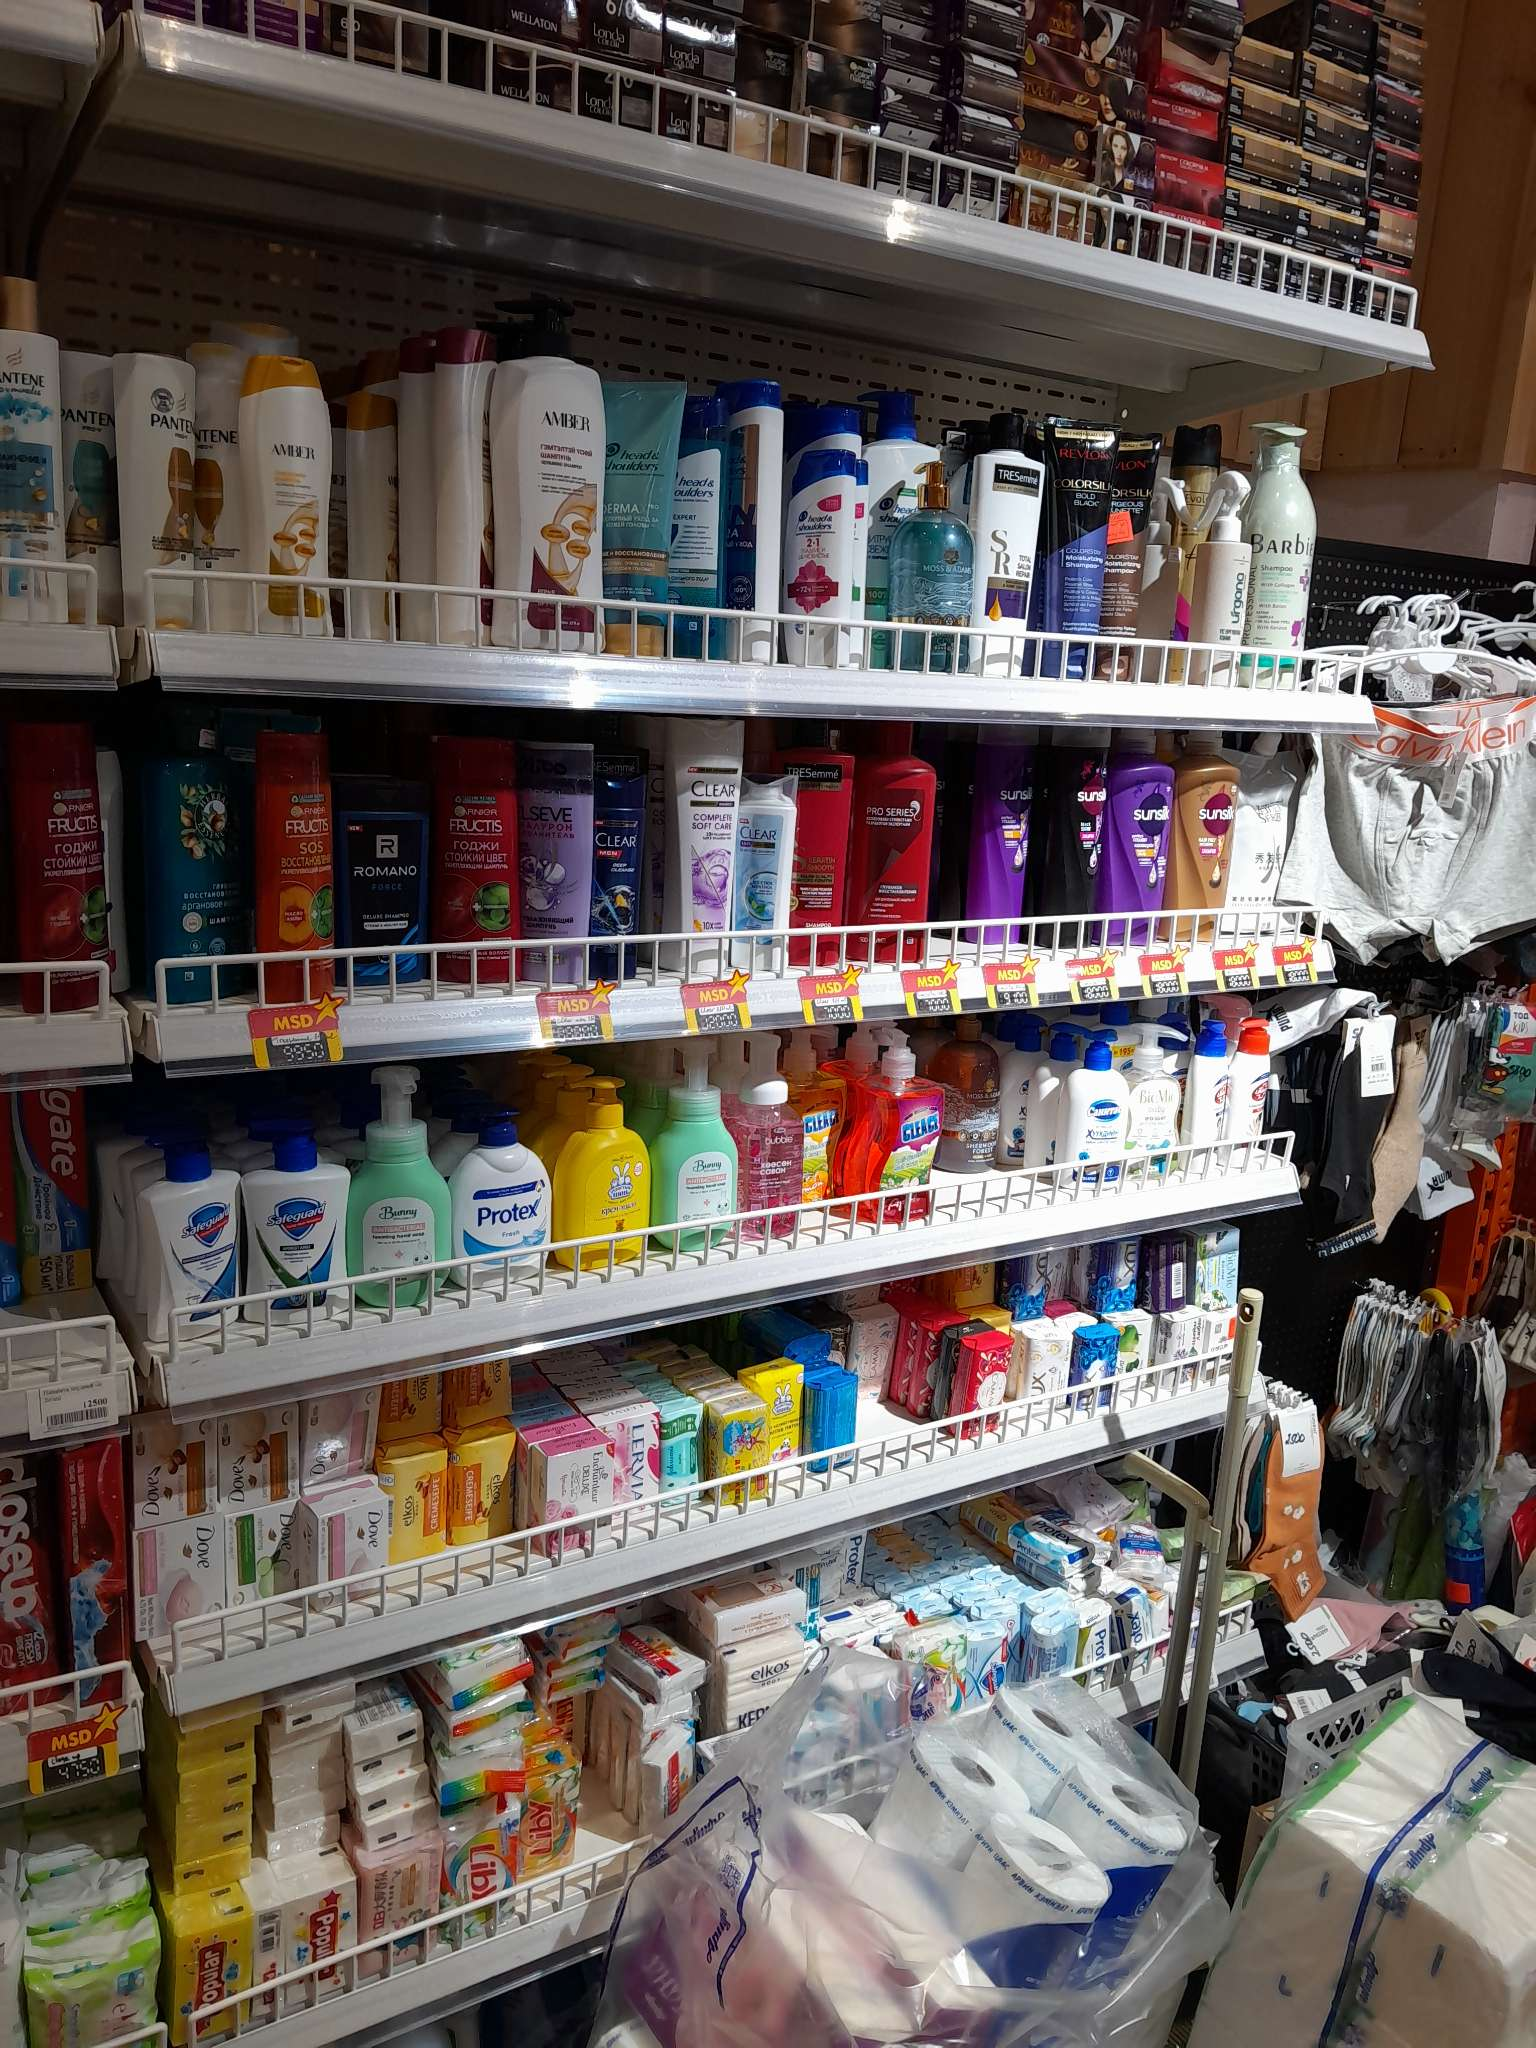Pantene: (110, 405, 197, 627), (55, 400, 118, 624), (200, 402, 239, 624)
amber: (511, 410, 605, 648), (240, 405, 334, 637)
biomio: (1125, 1024, 1187, 1171), (1191, 1230, 1242, 1301)
bunny: (353, 1069, 437, 1288), (652, 1061, 733, 1243)
clear: (660, 713, 741, 974), (595, 758, 645, 968), (741, 768, 789, 971)
closeup: (2, 1455, 68, 1687)
colgate: (16, 1089, 100, 1301)
dove: (131, 1524, 223, 1643), (224, 1509, 308, 1614), (131, 1422, 213, 1522), (308, 1495, 390, 1592), (218, 1411, 300, 1503), (302, 1387, 376, 1487)
elis: (16, 1919, 150, 2046)
elkos: (389, 1447, 450, 1566), (453, 1426, 515, 1538), (721, 1643, 792, 1724), (442, 1358, 507, 1422), (386, 1377, 442, 1435)
garnier: (15, 735, 108, 1005), (155, 721, 252, 977), (253, 731, 342, 1005), (436, 740, 528, 972)
gleace: (863, 1048, 941, 1222), (792, 1059, 849, 1209)
head&shoulders: (783, 452, 845, 666), (607, 400, 660, 626), (673, 410, 718, 645)
liby: (442, 1817, 521, 1916), (515, 1771, 576, 1887)
lux: (1084, 1230, 1142, 1311), (1021, 1332, 1070, 1406), (1075, 1324, 1115, 1397), (1021, 1248, 1060, 1317)
new top: (550, 1695, 591, 1767)
nurse with ears: (565, 1077, 642, 1261), (713, 1398, 770, 1487), (760, 1369, 802, 1458)
popular: (152, 1906, 247, 2043), (282, 1879, 352, 2000)
protex: (457, 1106, 555, 1279), (1016, 1506, 1083, 1579), (833, 1524, 873, 1603), (1078, 1598, 1115, 1672)
romano: (347, 779, 424, 966)
safeguard: (123, 1137, 239, 1337), (253, 1122, 339, 1324), (975, 1622, 1010, 1716)
sanitas: (1058, 1037, 1126, 1182)
sunsilk: (1042, 726, 1108, 934), (966, 750, 1037, 937), (1121, 729, 1175, 937), (1178, 729, 1236, 919)
